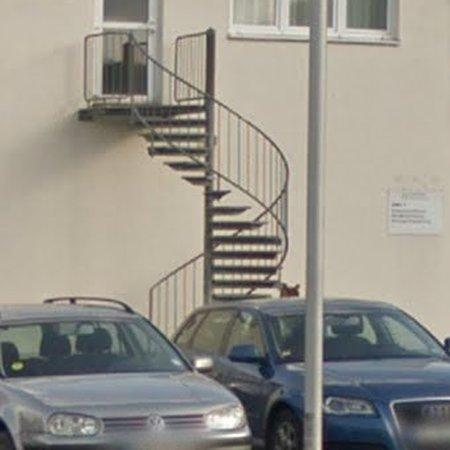stairs: (79, 29, 289, 332)
